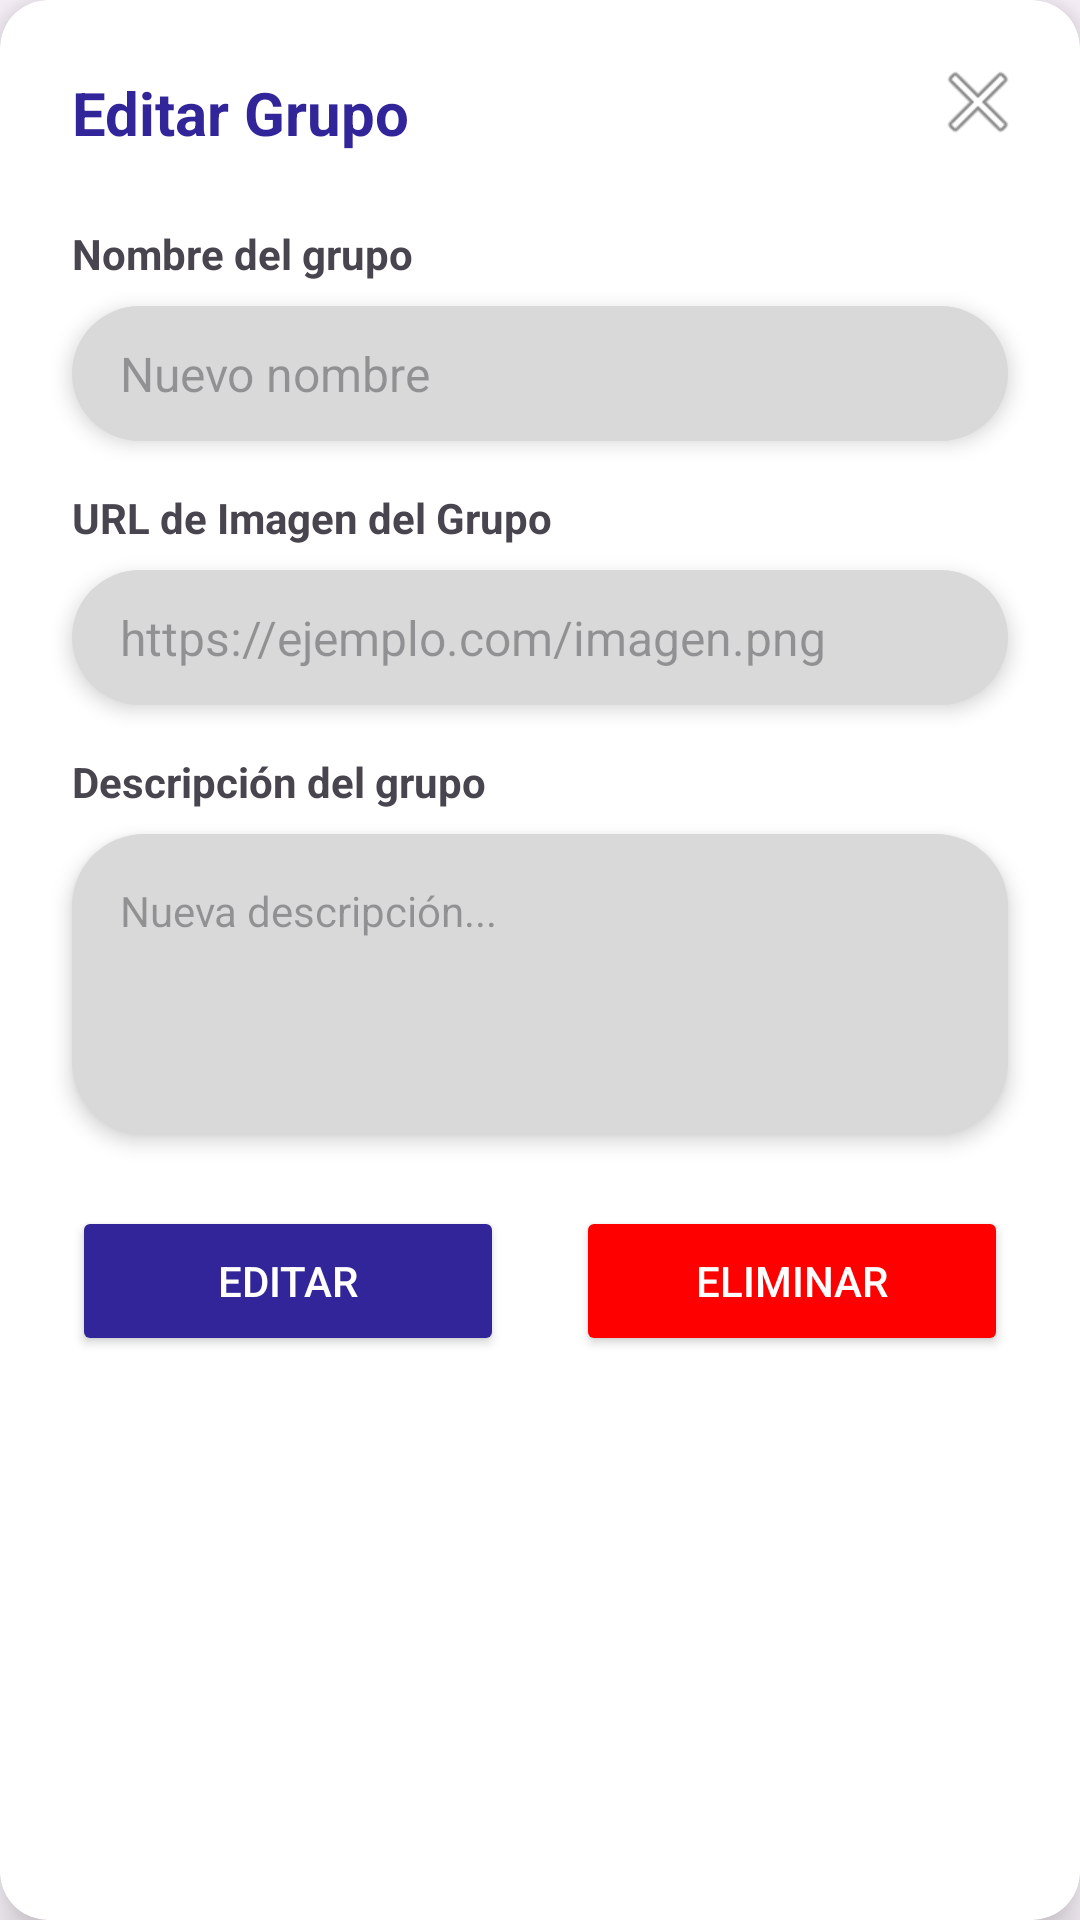

Where icons sit on this 1080w x 1920h app screen, as rect(x1, y1, x2, y2):
Cerrar: rect(948, 72, 1008, 132)
